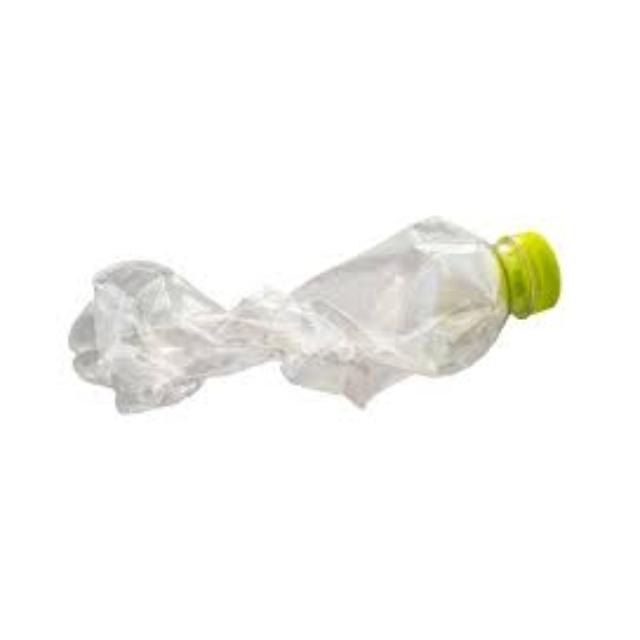Plastic: (41, 202, 576, 438), (41, 635, 576, 640), (41, 0, 576, 2)
